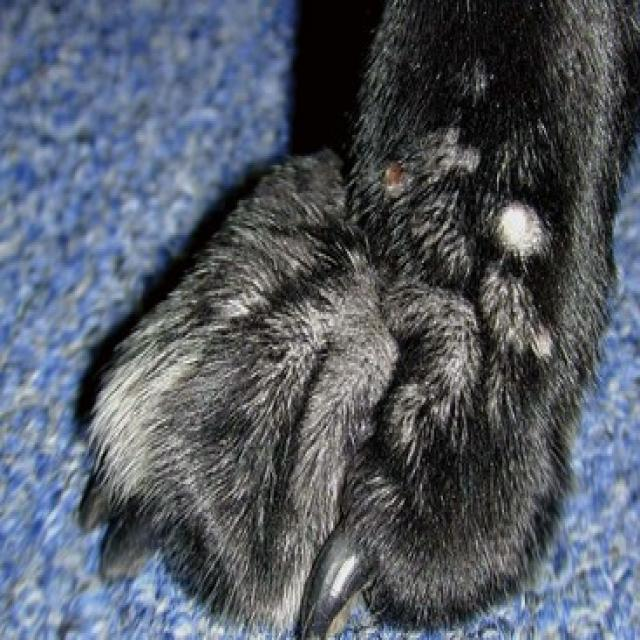allergic dermatitis: (276, 255, 400, 513), (484, 195, 559, 270), (428, 118, 488, 177)
